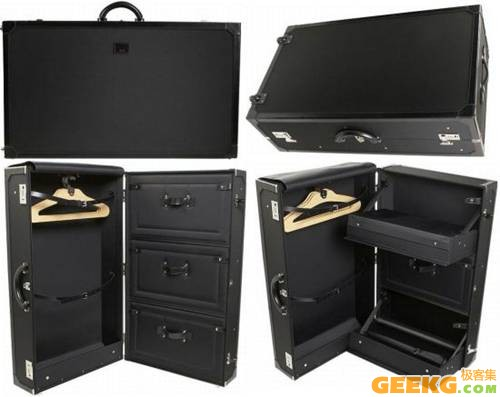shoutibox: (0, 0, 241, 163)
